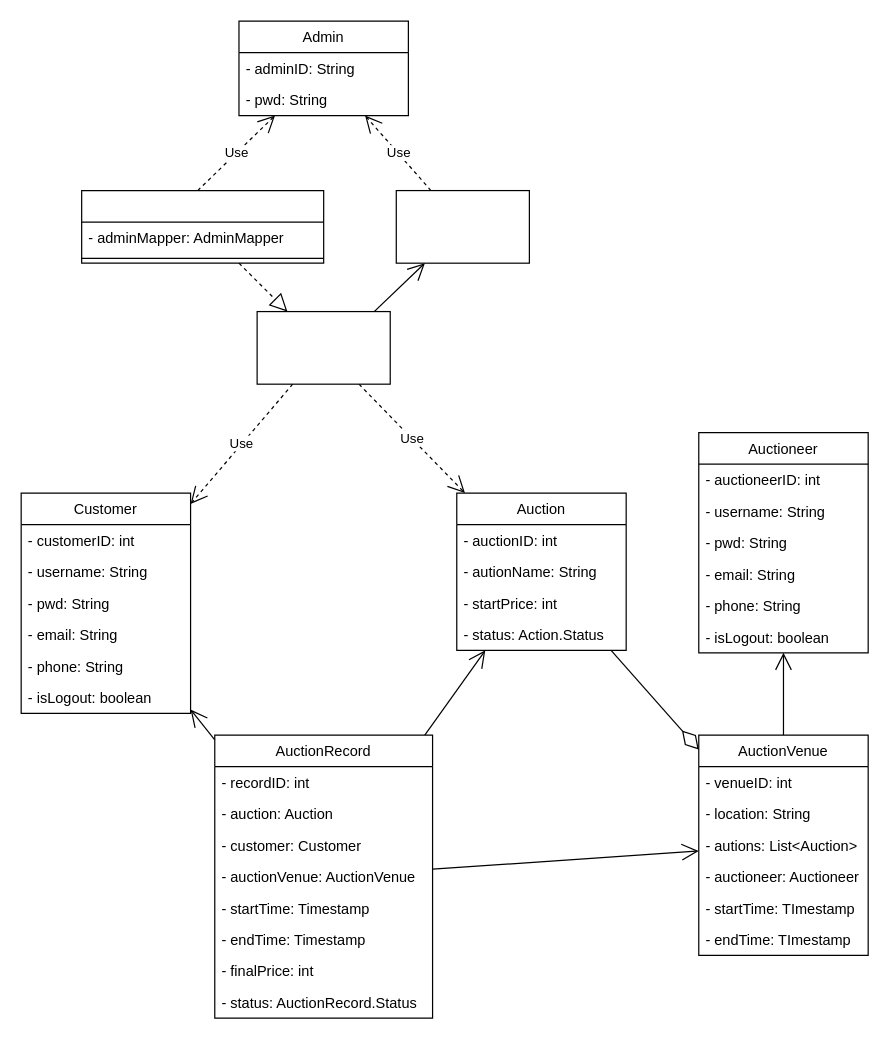
Image size: 889x1043. Some labels were removed from this diagram. Each missing label, with the box of its shape:
AdminServiceImpl: (80, 189, 324, 263)
«interface» AdminMapper: (395, 189, 529, 263)
«interface» AdminService: (256, 310, 390, 384)
